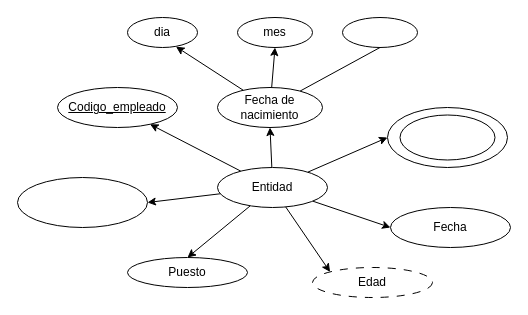
Image size: 528x315. Some labels were removed from this diagram. Each missing label, with the centre of its shape:
"año" belongs at point (380, 32).
"NombreDeEmpleado" belongs at point (82, 202).
"Telefono" belongs at point (447, 137).
